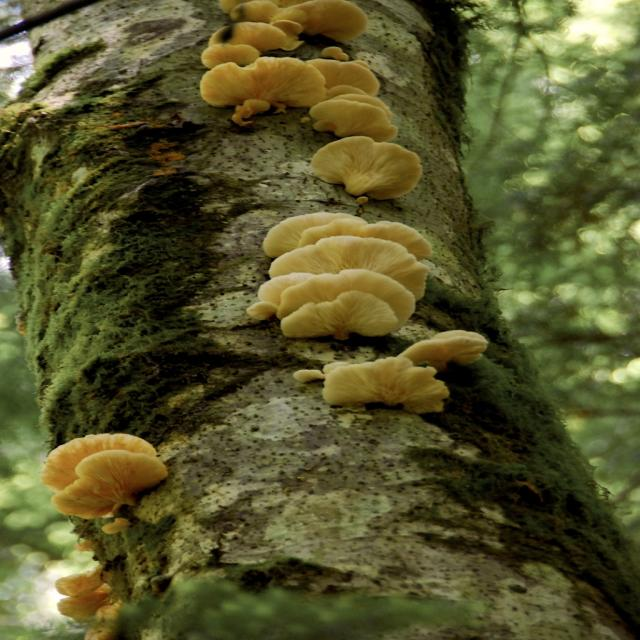Mushroom: (197, 0, 399, 144), (249, 210, 432, 342), (294, 330, 490, 416), (50, 450, 169, 530), (312, 135, 426, 202), (56, 568, 125, 640)
